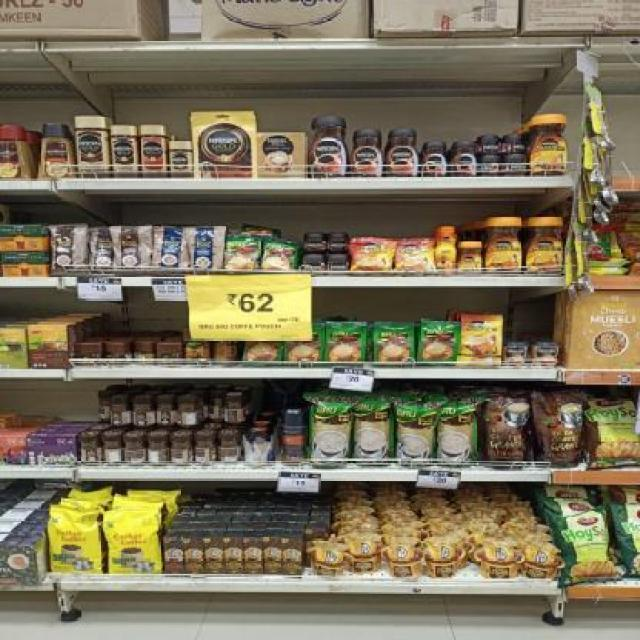Coffee: (308, 116, 350, 176), (73, 116, 110, 178), (531, 115, 568, 176), (460, 316, 502, 367), (485, 217, 523, 273), (526, 219, 564, 273), (386, 128, 419, 175), (351, 129, 383, 177), (110, 125, 138, 178), (352, 237, 390, 273), (393, 238, 431, 272), (436, 226, 457, 272), (168, 140, 194, 176), (447, 141, 475, 173), (458, 241, 485, 273), (423, 141, 449, 173), (326, 254, 349, 275), (504, 133, 528, 153), (506, 153, 529, 173), (480, 156, 503, 176), (477, 135, 499, 154), (325, 233, 347, 251), (303, 253, 325, 271), (301, 235, 323, 251)
